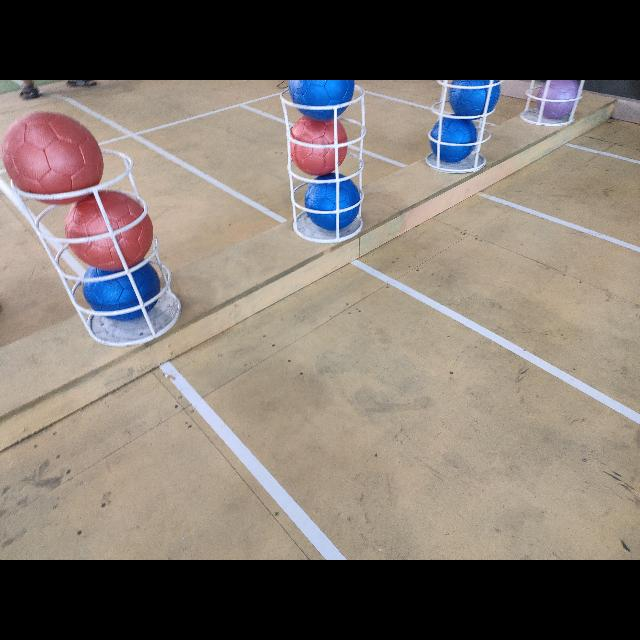B: (81, 268, 160, 322), (306, 177, 359, 231), (289, 80, 356, 118), (430, 117, 478, 163), (450, 80, 502, 116)
R: (0, 113, 104, 203), (68, 188, 154, 270), (289, 117, 347, 175)
